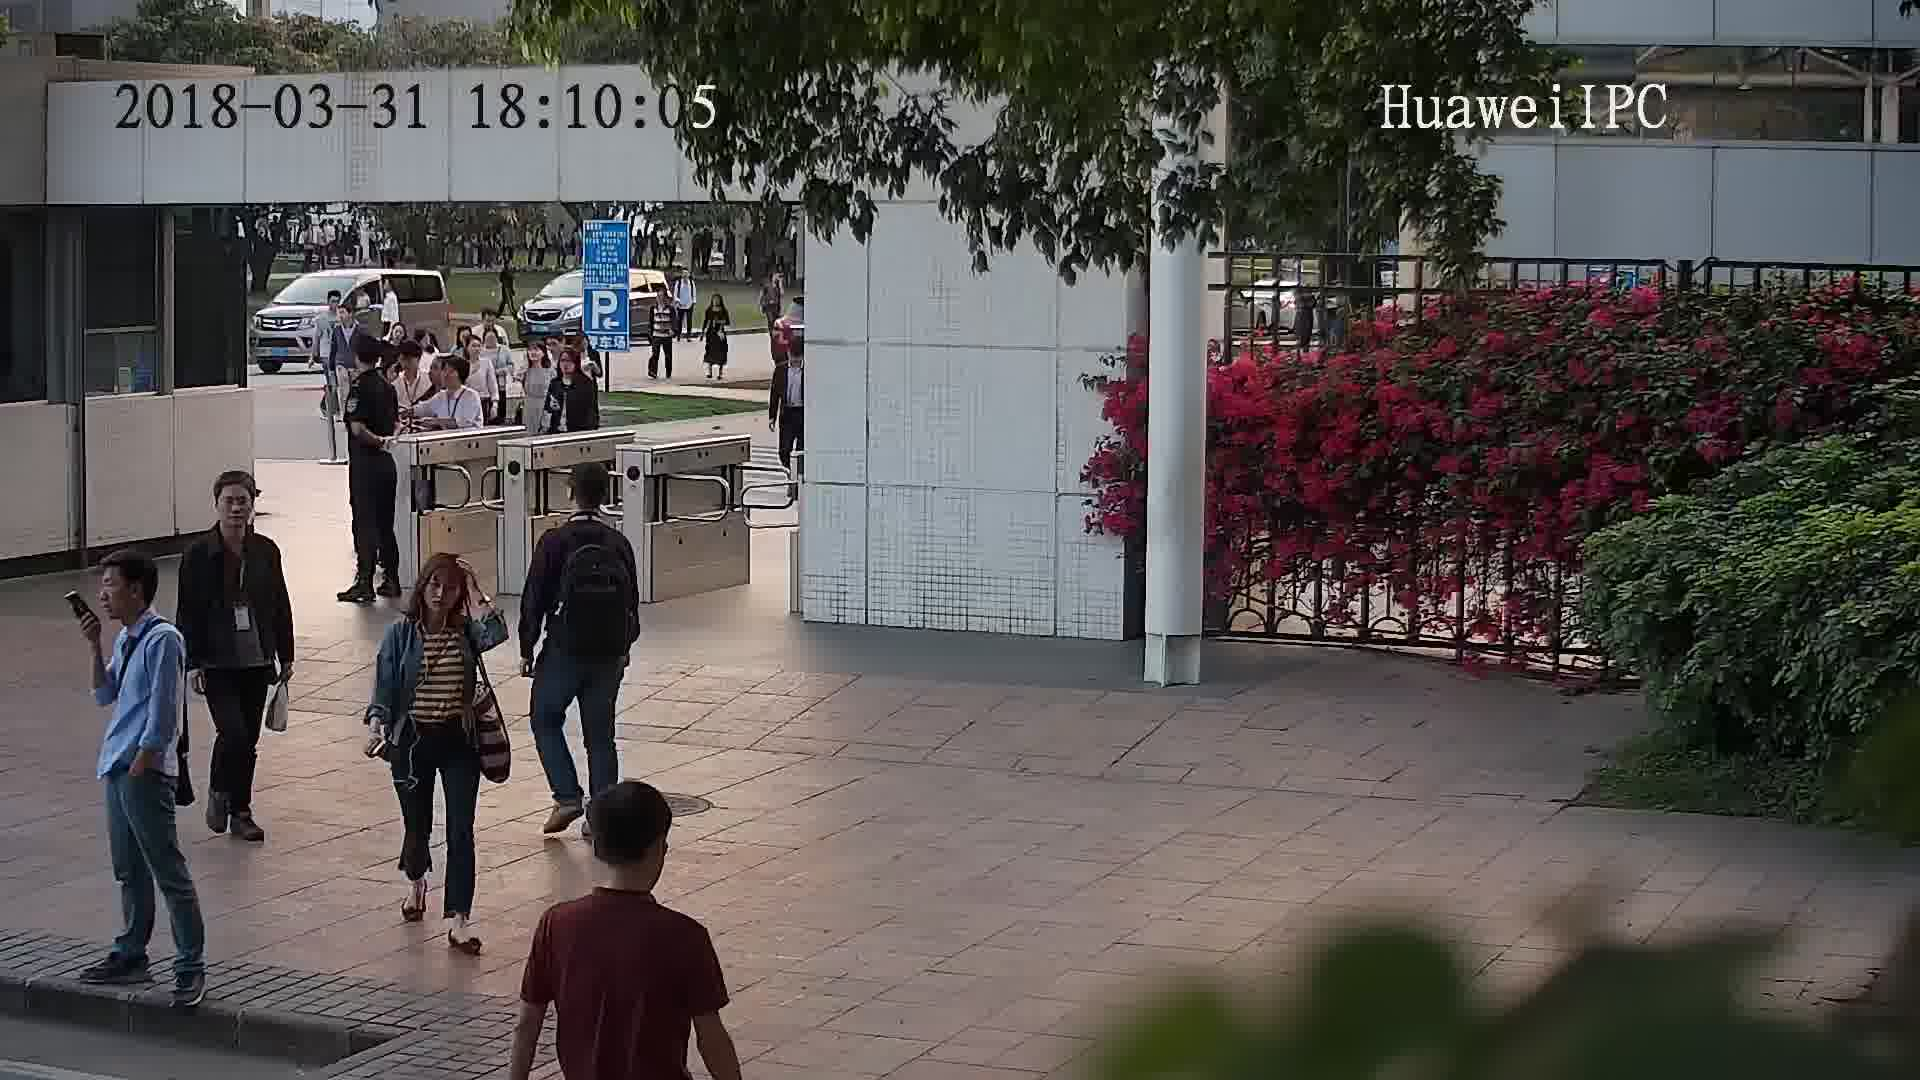face: (418, 567, 469, 617), (211, 481, 259, 529)
person: (532, 779, 710, 958), (393, 546, 491, 645), (186, 465, 281, 567), (540, 460, 637, 558), (101, 551, 183, 665), (345, 335, 391, 401), (432, 354, 481, 412), (550, 346, 598, 396), (387, 337, 425, 394), (516, 334, 556, 384), (454, 332, 492, 382), (317, 284, 356, 324), (326, 300, 371, 336), (771, 338, 809, 377), (479, 324, 508, 364), (701, 289, 733, 321), (649, 279, 677, 312)
